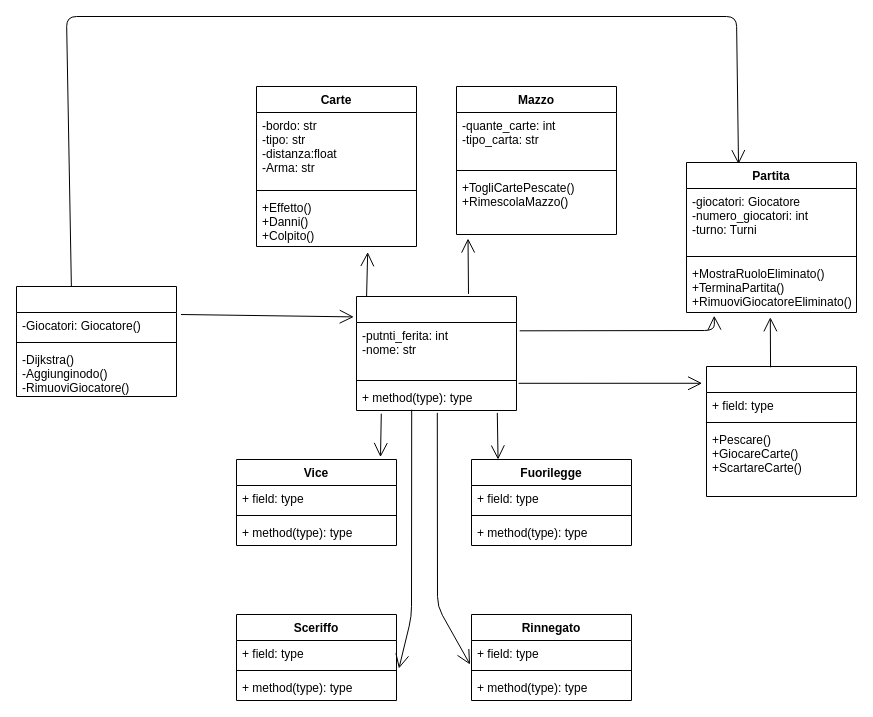
Image size: 873x717. Some labels were removed from this diagram. Each missing label, with the box of its shape:
Giocatore: (356, 296, 516, 410)
Grafo: (16, 286, 176, 396)
Turno: (706, 366, 856, 496)
